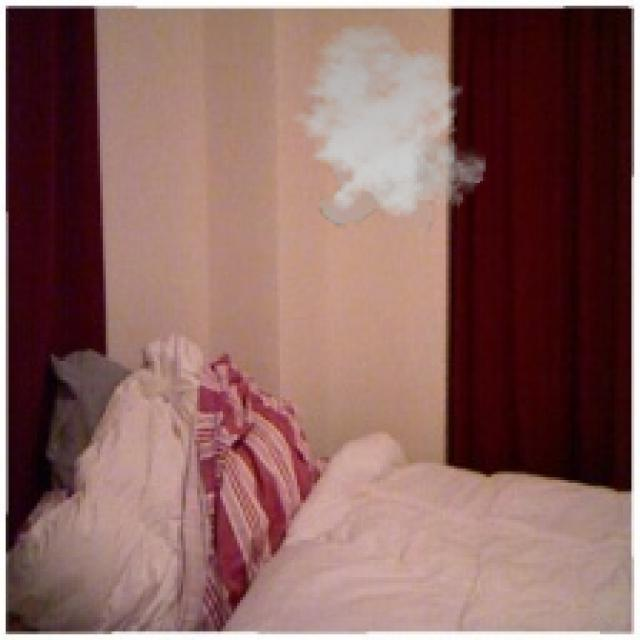Smoke: (283, 22, 486, 232)
